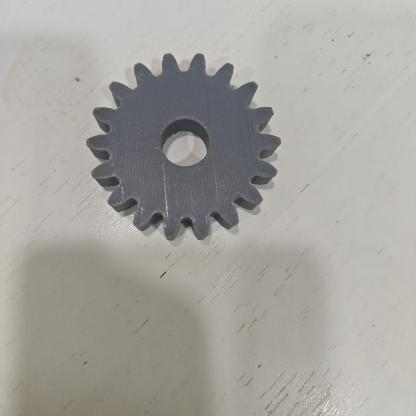gear: (78, 42, 302, 252)
